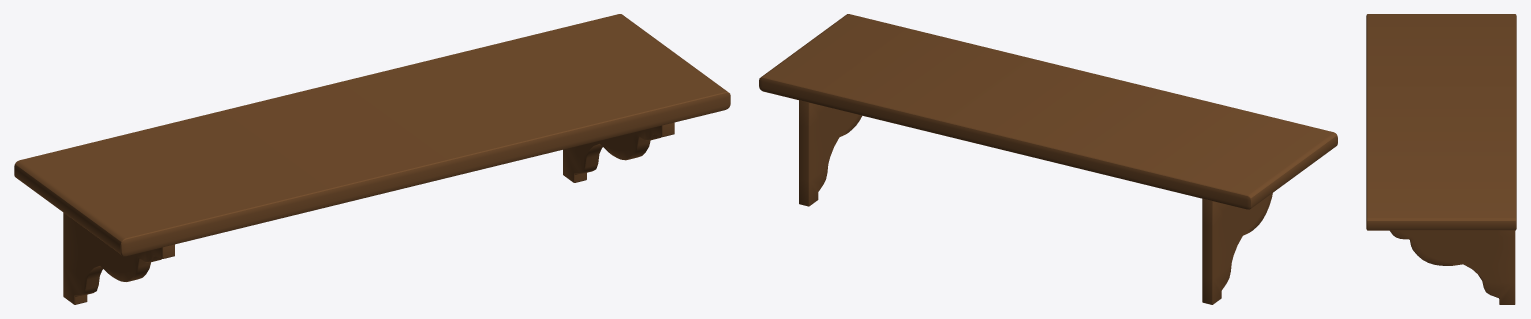
File: Wall_shelf.fbx
3 views of the same model, side by side, from view 1: azimuth 30°, elevation 25°; view 2: azimuth 150°, elevation 25°; view 3: azimuth 270°, elevation 25° (orthographic). The views are drawn at different scales.
Parts seen in each view (by area): view 1: Wall_shelf; view 2: Wall_shelf; view 3: Wall_shelf.
Boxes of the visible parts, x1,y1,x2,y2 form: Wall_shelf: (14, 14, 730, 304); Wall_shelf: (759, 14, 1337, 304); Wall_shelf: (1366, 14, 1516, 304).
Bounding box in the file's own units: 65 × 15 × 20.
